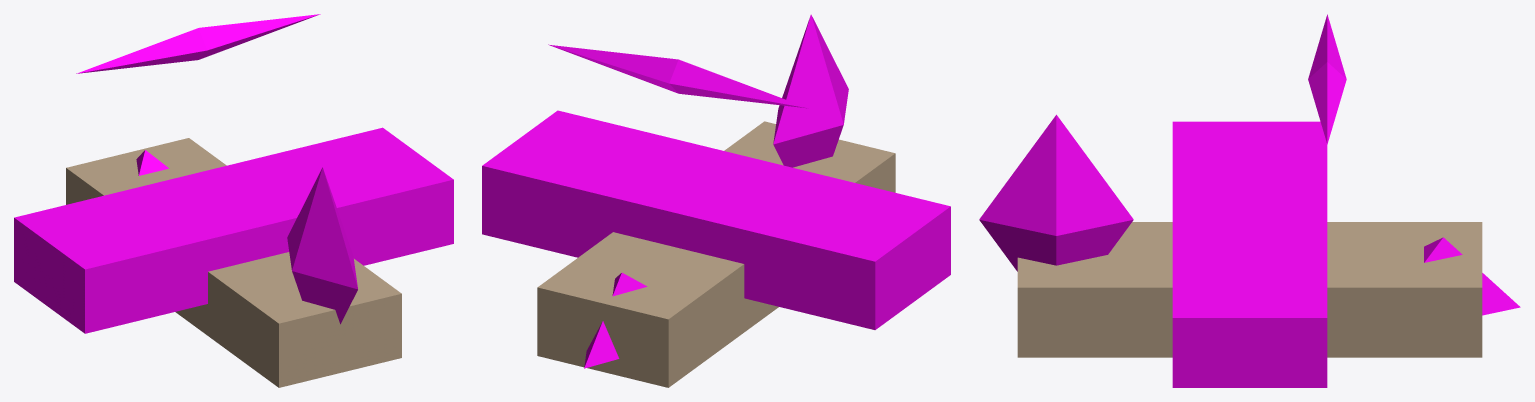
The model's file is ship_sloop.glb.
3 views of the same model, side by side, from view 1: azimuth 30°, elevation 25°; view 2: azimuth 150°, elevation 25°; view 3: azimuth 270°, elevation 25° (orthographic). The views are drawn at different scales.
Parts seen in each view (by area): view 1: ship_sloop_COL_box, ship_sloop_LOD0, ship_sloop_COL_sphere, ship_sloop_COL_capsule, ship_sloop_COL_convex.001; view 2: ship_sloop_COL_box, ship_sloop_LOD0, ship_sloop_COL_sphere, ship_sloop_COL_capsule, ship_sloop_COL_convex.001; view 3: ship_sloop_COL_box, ship_sloop_LOD0, ship_sloop_COL_sphere, ship_sloop_COL_capsule, ship_sloop_COL_convex.001.
Part boxes in pixels (box(x1,y1,x2,y2)): ship_sloop_COL_box: box(14, 127, 453, 333); ship_sloop_LOD0: box(66, 138, 401, 387); ship_sloop_COL_sphere: box(287, 167, 357, 324); ship_sloop_COL_capsule: box(76, 14, 320, 73); ship_sloop_COL_convex.001: box(136, 150, 168, 175); ship_sloop_COL_box: box(482, 110, 950, 329); ship_sloop_LOD0: box(537, 121, 895, 387); ship_sloop_COL_sphere: box(773, 14, 848, 167); ship_sloop_COL_capsule: box(548, 44, 808, 108); ship_sloop_COL_convex.001: box(584, 272, 647, 368); ship_sloop_COL_box: box(1172, 121, 1327, 387); ship_sloop_LOD0: box(1017, 222, 1482, 357); ship_sloop_COL_sphere: box(979, 114, 1133, 271); ship_sloop_COL_capsule: box(1308, 14, 1346, 144); ship_sloop_COL_convex.001: box(1424, 237, 1520, 315).
Size of what is drawn, in the model's own units: 6 by 3.75 by 7.
